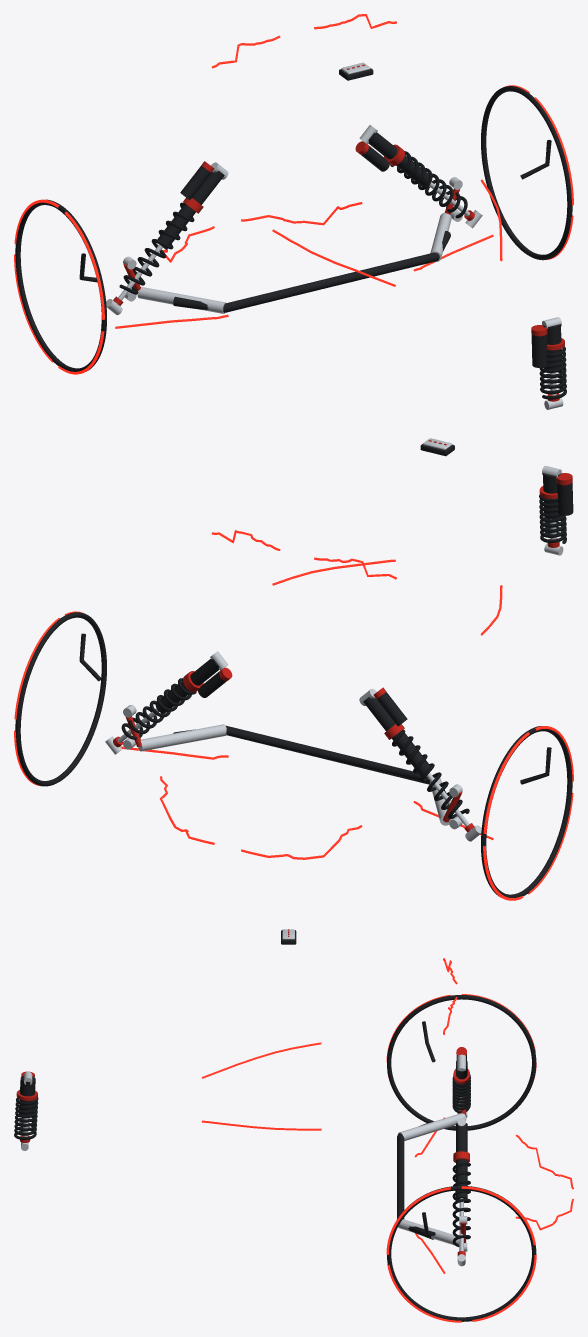
Rendered from spyder-products.glb.
The picture shows the model from 3 angles, top to bottom: view 1: azimuth 30°, elevation 25°; view 2: azimuth 150°, elevation 25°; view 3: azimuth 270°, elevation 25°; orthographic projection. The views are drawn at different scales.
Visible parts, largest first — view 1: Baja Ron torsion bar, Wheel black support ring.001, Wheel black support ring, Elka spring.001, Elka spring, Elka billet body, Elka spring.002, Baja Ron billet arm, Elka billet body.001, Elka reservoir.002; view 2: Wheel black support ring.001, Baja Ron torsion bar, Wheel black support ring, Elka spring.001, Baja Ron billet arm.001, Elka spring, Elka spring.002, Elka billet body, Elka billet body.001; view 3: Wheel black support ring, Wheel black support ring.001, Elka spring.002, Baja Ron torsion bar, Elka spring.001, Baja Ron billet arm, Elka billet body.001, Elka spring.
Boxes of the visible parts, left/top/right/bottom form: Baja Ron torsion bar: left=173, top=231, right=450, bottom=312; Wheel black support ring.001: left=481, top=86, right=572, bottom=260; Wheel black support ring: left=15, top=199, right=106, bottom=371; Elka spring.001: left=390, top=151, right=467, bottom=218; Elka spring: left=119, top=202, right=194, bottom=294; Elka billet body: left=157, top=170, right=224, bottom=249; Elka spring.002: left=539, top=346, right=566, bottom=399; Baja Ron billet arm: left=137, top=287, right=226, bottom=313; Elka billet body.001: left=368, top=132, right=428, bottom=186; Elka reservoir.002: left=531, top=334, right=547, bottom=367; Wheel black support ring.001: left=15, top=612, right=106, bottom=786; Baja Ron torsion bar: left=173, top=725, right=448, bottom=804; Wheel black support ring: left=481, top=726, right=572, bottom=897; Elka spring.001: left=121, top=678, right=196, bottom=739; Baja Ron billet arm.001: left=138, top=724, right=226, bottom=751; Elka spring: left=392, top=729, right=469, bottom=818; Elka spring.002: left=539, top=494, right=566, bottom=543; Elka billet body: left=363, top=697, right=430, bottom=776; Elka billet body.001: left=155, top=659, right=219, bottom=713; Wheel black support ring: left=387, top=995, right=536, bottom=1130; Wheel black support ring.001: left=387, top=1185, right=536, bottom=1321; Elka spring.002: left=14, top=1097, right=38, bottom=1139; Baja Ron torsion bar: left=397, top=1121, right=434, bottom=1239; Elka spring.001: left=452, top=1162, right=470, bottom=1246; Baja Ron billet arm: left=398, top=1113, right=466, bottom=1140; Elka billet body.001: left=456, top=1123, right=467, bottom=1200; Elka spring: left=452, top=1074, right=470, bottom=1113.
Bounding box in the file's own units: 1.39 × 0.9263 × 1.7.
